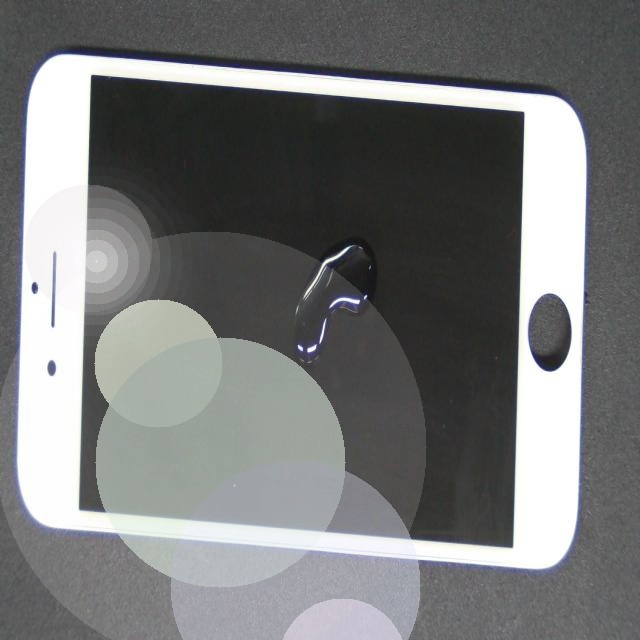oil: (159, 163, 541, 441)
